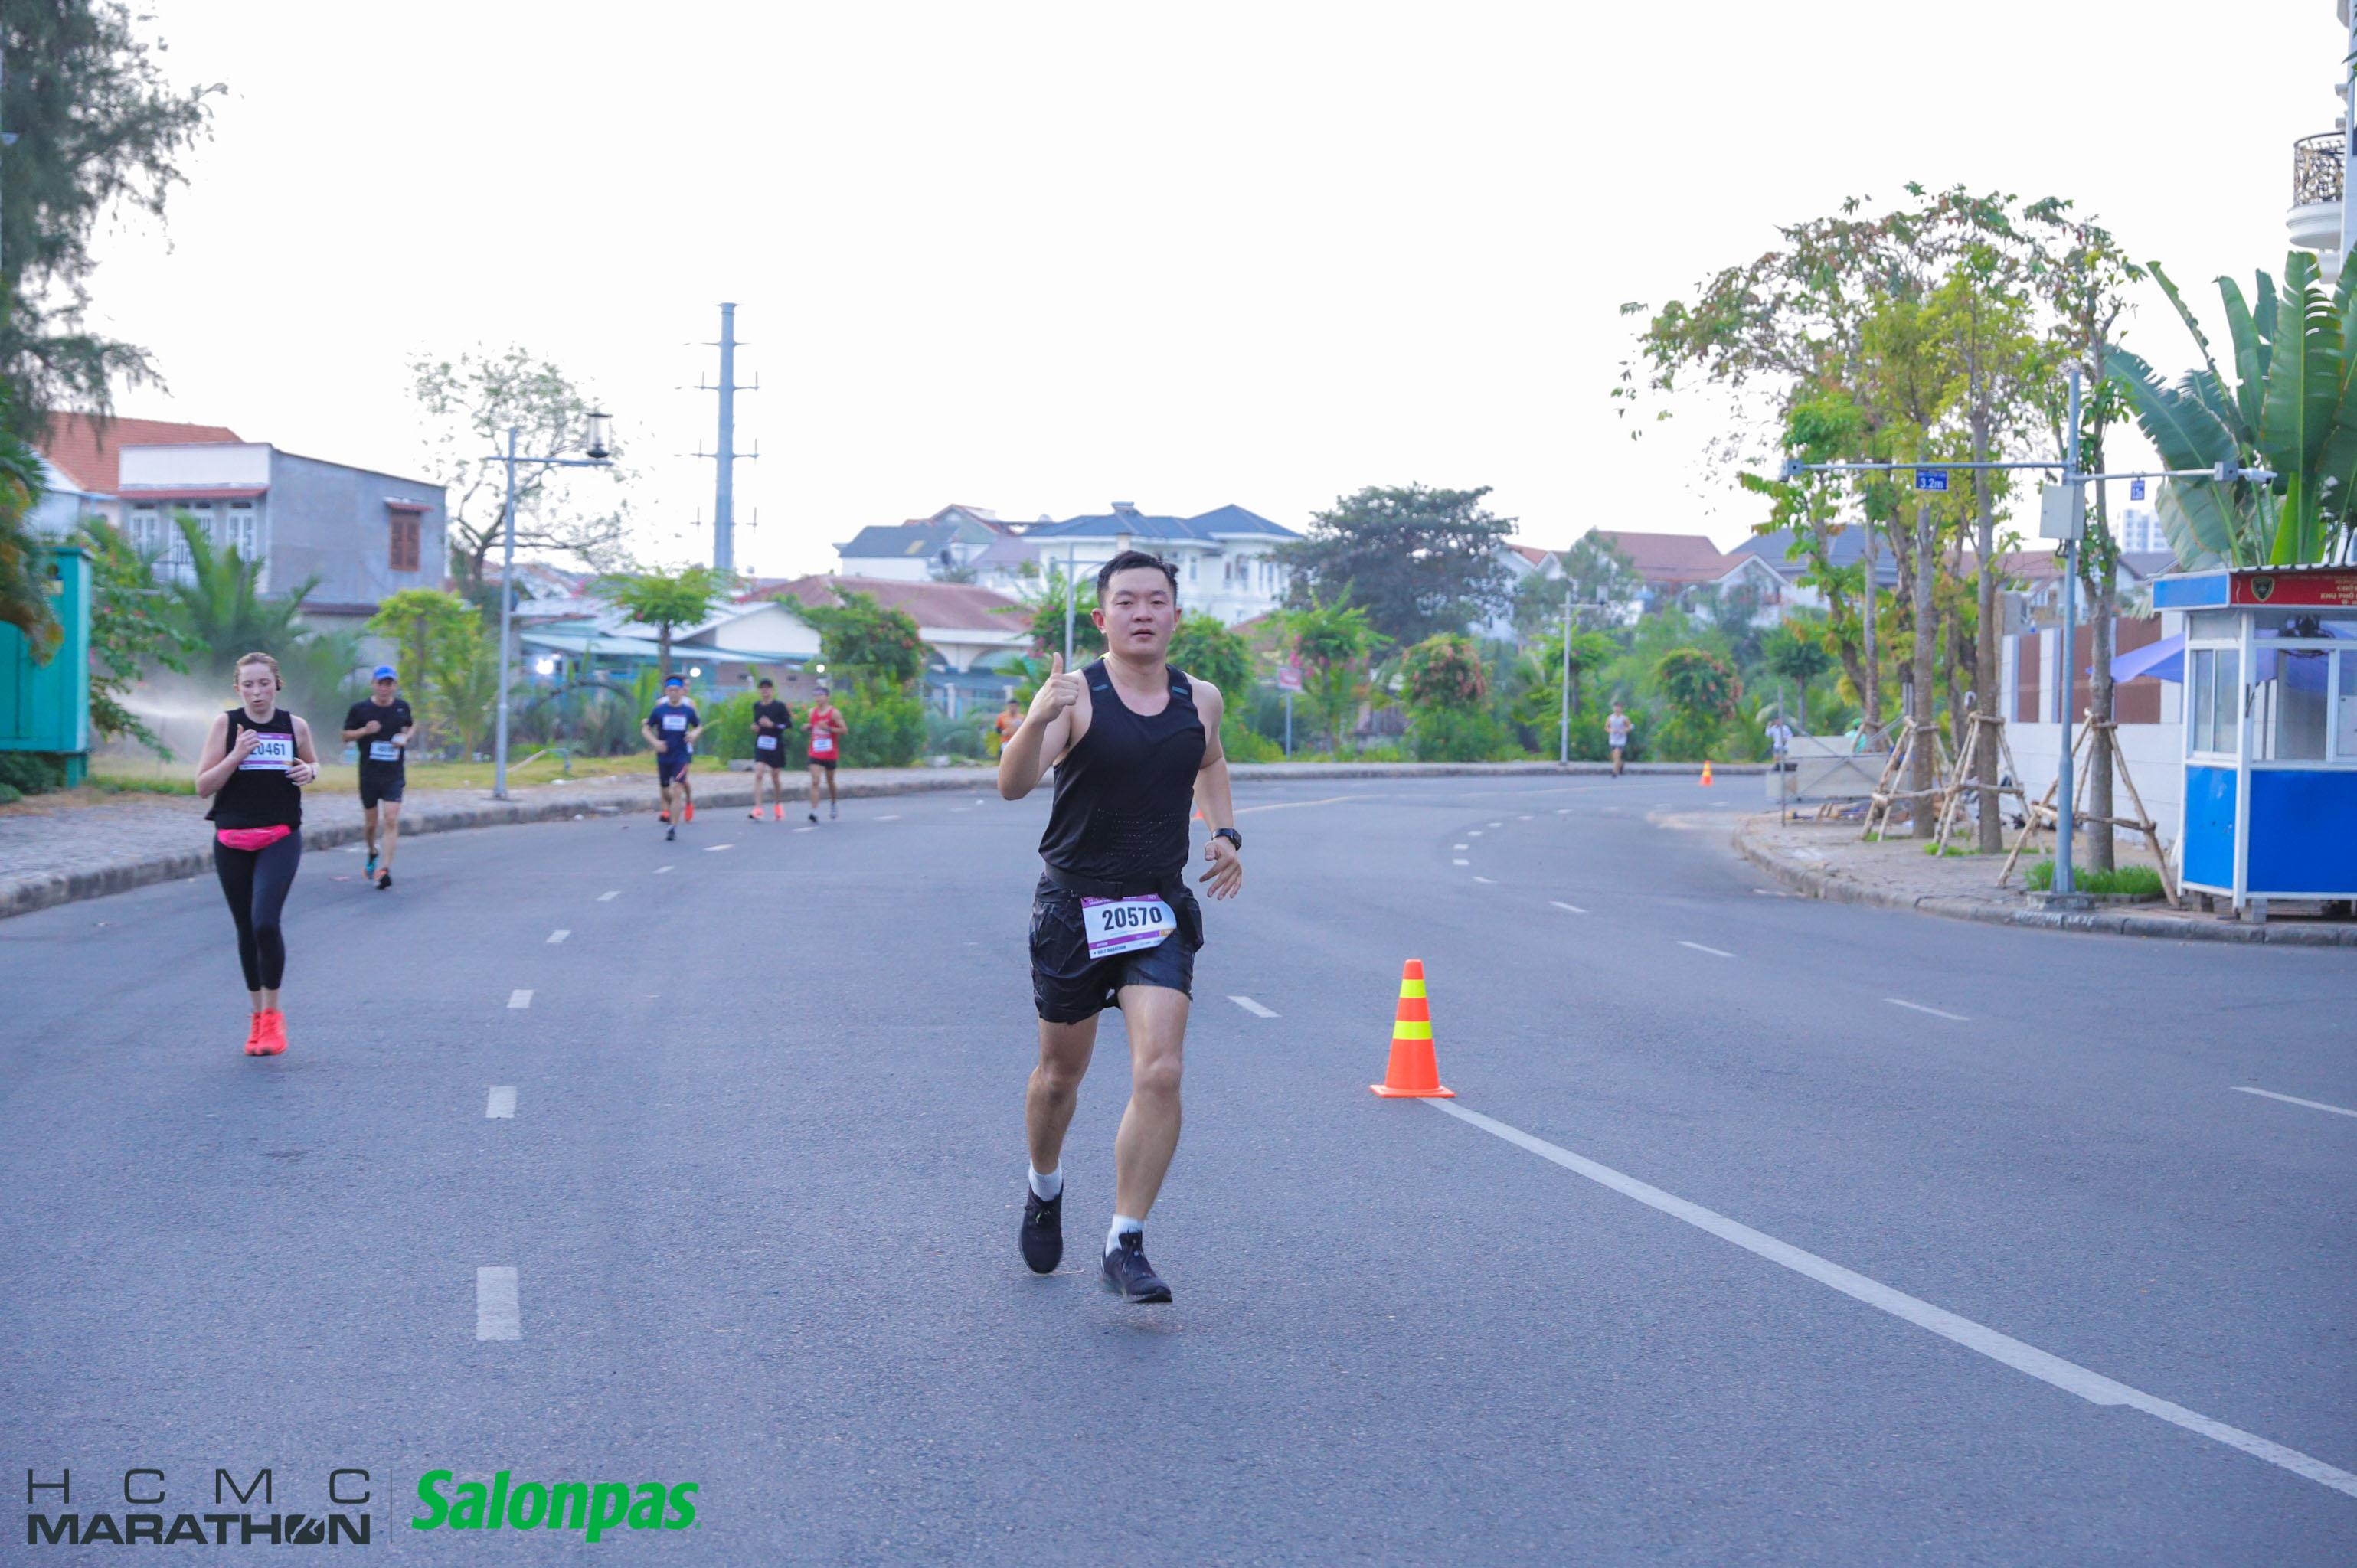bib: (1076, 892, 1176, 957), (238, 731, 294, 773), (367, 738, 399, 763), (661, 712, 686, 731), (756, 735, 777, 751), (810, 740, 833, 752)
